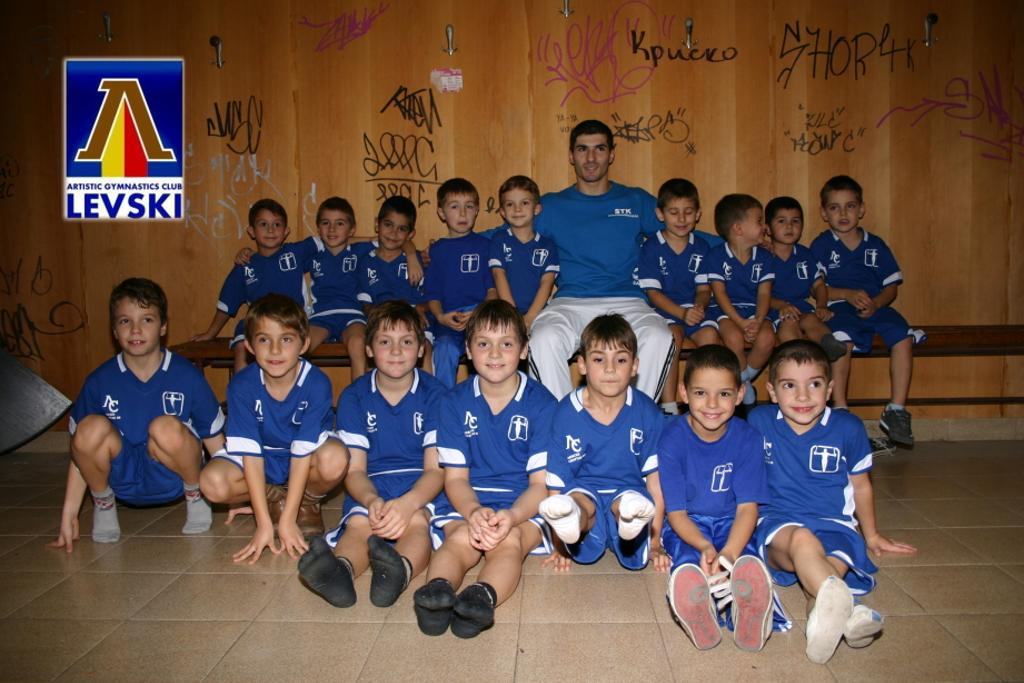face: (779, 371, 829, 423), (474, 328, 521, 381), (254, 324, 301, 376), (117, 304, 161, 357), (373, 326, 418, 377), (589, 343, 632, 396), (692, 376, 732, 429), (576, 140, 608, 181), (829, 197, 860, 232), (666, 201, 696, 235), (446, 196, 475, 231), (382, 215, 410, 248), (506, 195, 534, 226), (742, 210, 766, 246), (775, 214, 802, 243), (258, 215, 283, 246), (323, 217, 345, 244)
